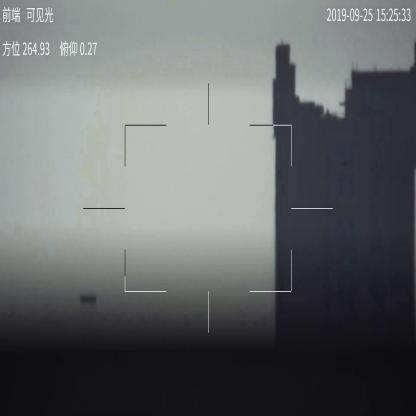uav: (80, 292, 96, 305)
